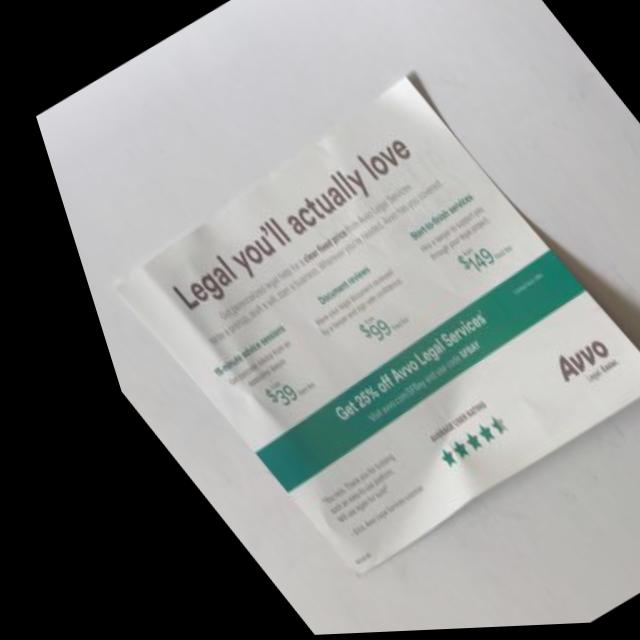paper: (3, 0, 640, 639)
